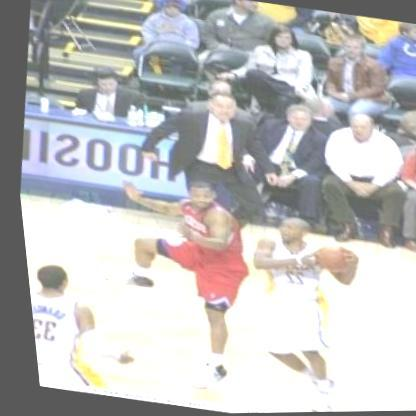basketball: (301, 241, 353, 283)
